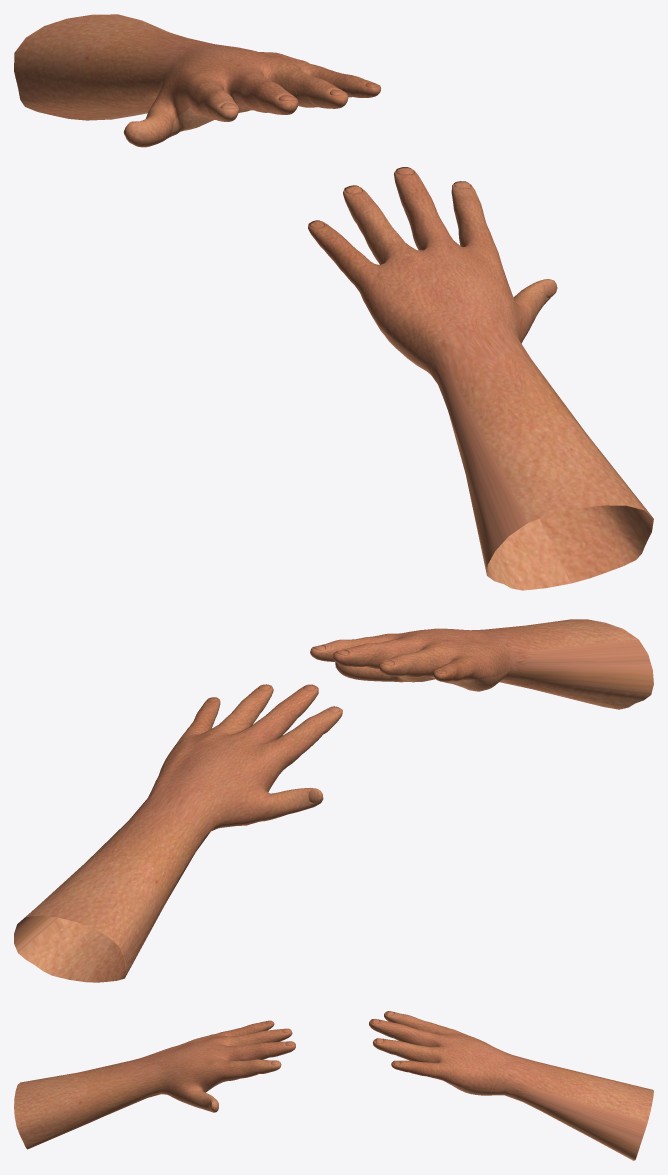
Rendered from hands_000022.obj.
The picture shows the model from 3 angles, top to bottom: view 1: azimuth 30°, elevation 25°; view 2: azimuth 150°, elevation 25°; view 3: azimuth 270°, elevation 25°; orthographic projection. The views are drawn at different scales.
Parts seen in each view (by area): view 1: hand.001_Mesh.001, hand_Mesh; view 2: hand_Mesh, hand.001_Mesh.001; view 3: hand_Mesh, hand.001_Mesh.001.
Boxes of the visible parts, left/top/right/bottom form: hand.001_Mesh.001: left=308, top=167, right=653, bottom=590; hand_Mesh: left=14, top=14, right=380, bottom=147; hand_Mesh: left=14, top=684, right=342, bottom=982; hand.001_Mesh.001: left=310, top=619, right=653, bottom=709; hand_Mesh: left=369, top=1011, right=653, bottom=1160; hand.001_Mesh.001: left=14, top=1020, right=295, bottom=1149.
Bounding box in the file's own units: 1.69 × 1.54 × 6.85.
Materials: 1 (1 with a texture image).
